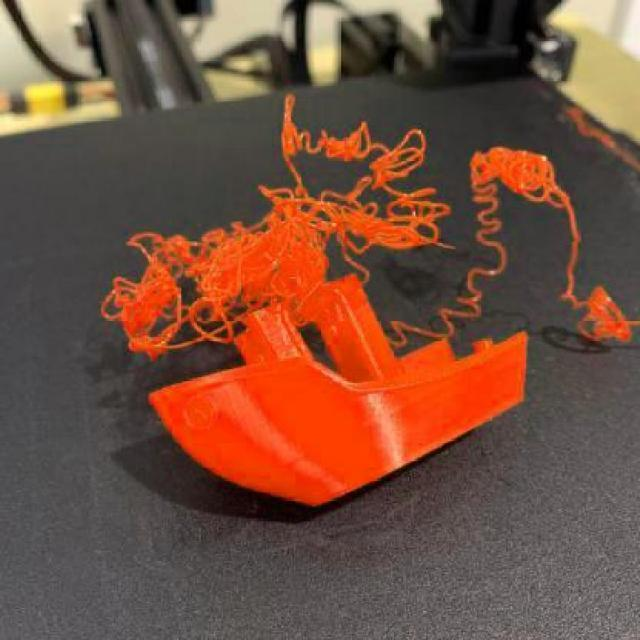spaghetti: (101, 92, 640, 363)
